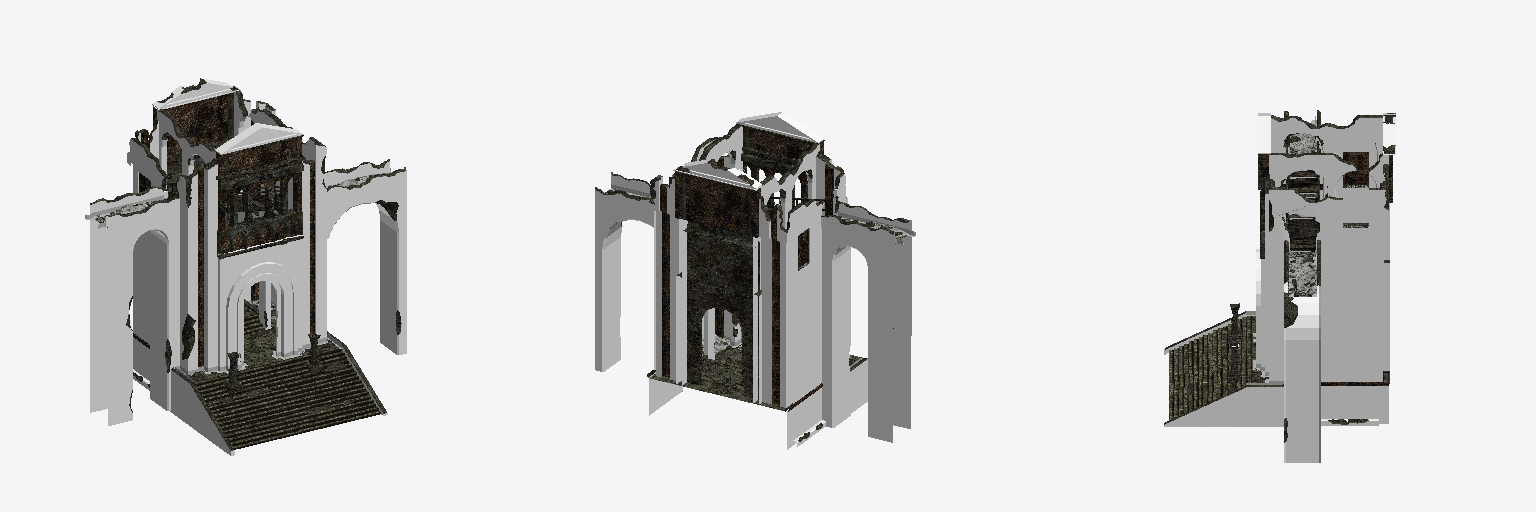
The picture shows the model from 3 angles: view 1: azimuth 30°, elevation 25°; view 2: azimuth 150°, elevation 25°; view 3: azimuth 270°, elevation 25°; orthographic projection.
Parts seen in each view (by area): view 1: mesh4, mesh13, mesh14, mesh12, mesh6, mesh11, mesh15, mesh10; view 2: mesh4, mesh14, mesh5, mesh12, mesh6, mesh11, mesh15; view 3: mesh4, mesh13, mesh12, mesh10, mesh14, mesh7, mesh16, mesh6.
Part boxes in pixels (left/top/right/bottom): mesh4: left=90, top=78, right=406, bottom=455; mesh13: left=194, top=314, right=380, bottom=449; mesh14: left=133, top=94, right=324, bottom=395; mesh12: left=90, top=78, right=405, bottom=450; mesh6: left=164, top=92, right=324, bottom=393; mesh11: left=132, top=307, right=336, bottom=381; mesh15: left=85, top=168, right=391, bottom=381; mesh10: left=167, top=183, right=279, bottom=212; mesh4: left=595, top=112, right=911, bottom=449; mesh14: left=647, top=128, right=833, bottom=411; mesh5: left=687, top=224, right=759, bottom=399; mesh12: left=595, top=124, right=909, bottom=441; mesh6: left=681, top=124, right=824, bottom=247; mesh11: left=650, top=347, right=855, bottom=411; mesh15: left=609, top=184, right=915, bottom=367; mesh4: left=1164, top=113, right=1395, bottom=462; mesh13: left=1169, top=316, right=1251, bottom=419; mesh12: left=1164, top=110, right=1395, bottom=442; mesh10: left=1283, top=146, right=1322, bottom=251; mesh14: left=1232, top=152, right=1392, bottom=385; mesh7: left=1284, top=142, right=1320, bottom=340; mesh16: left=1291, top=133, right=1314, bottom=292; mesh6: left=1228, top=154, right=1270, bottom=383.
Bounding box in the file's own units: 21.82 × 18.77 × 14.28.
18 materials, 13 textured.